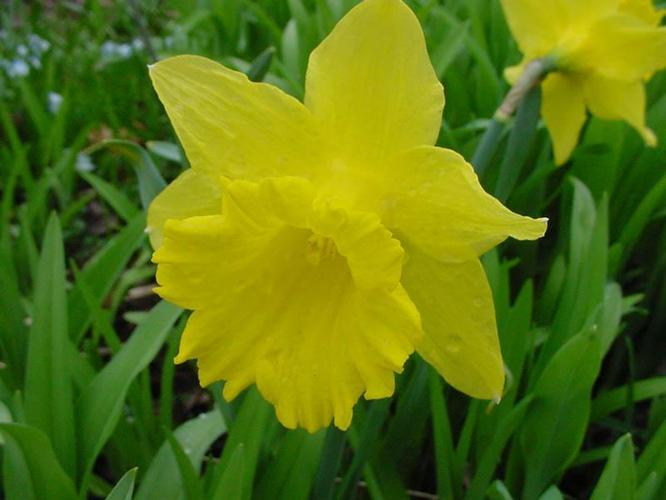flower1: (134, 1, 548, 434)
